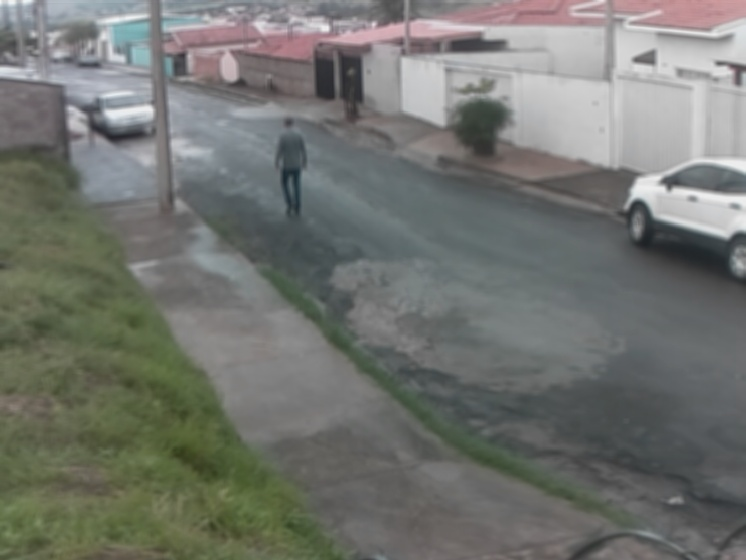person: (274, 114, 307, 217)
